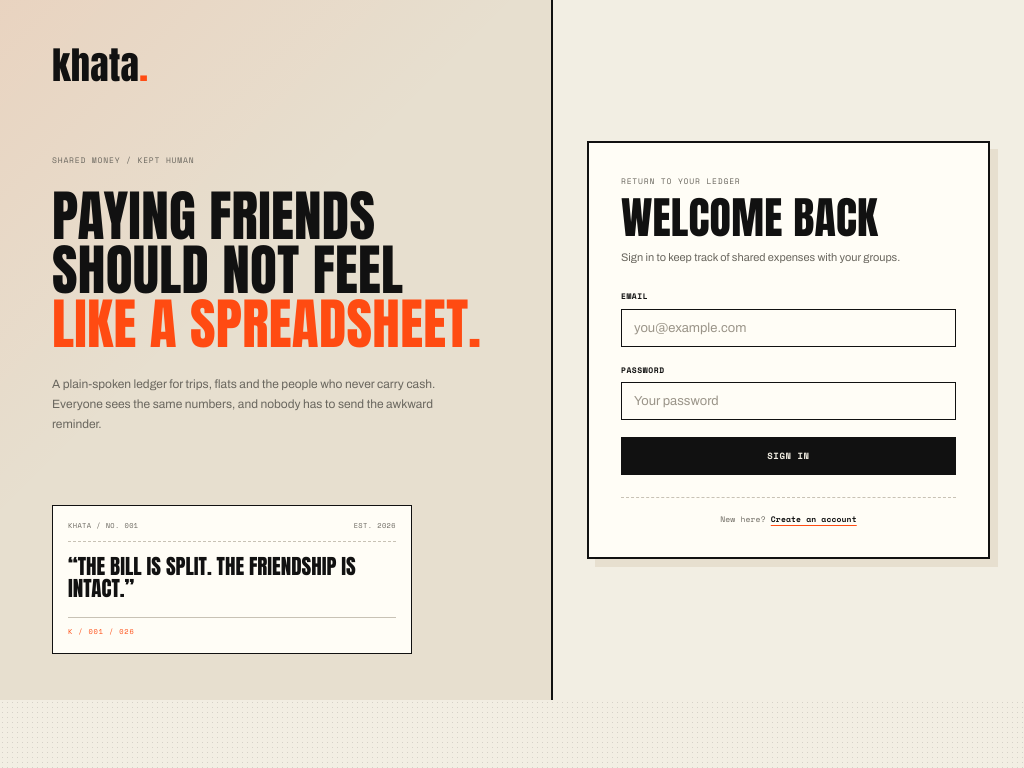
Test case: Login page › shows the API error when login fails
Type "test@example.com" into the field labelled "Email" at (788,328), box left=621, top=309, right=956, bottom=347
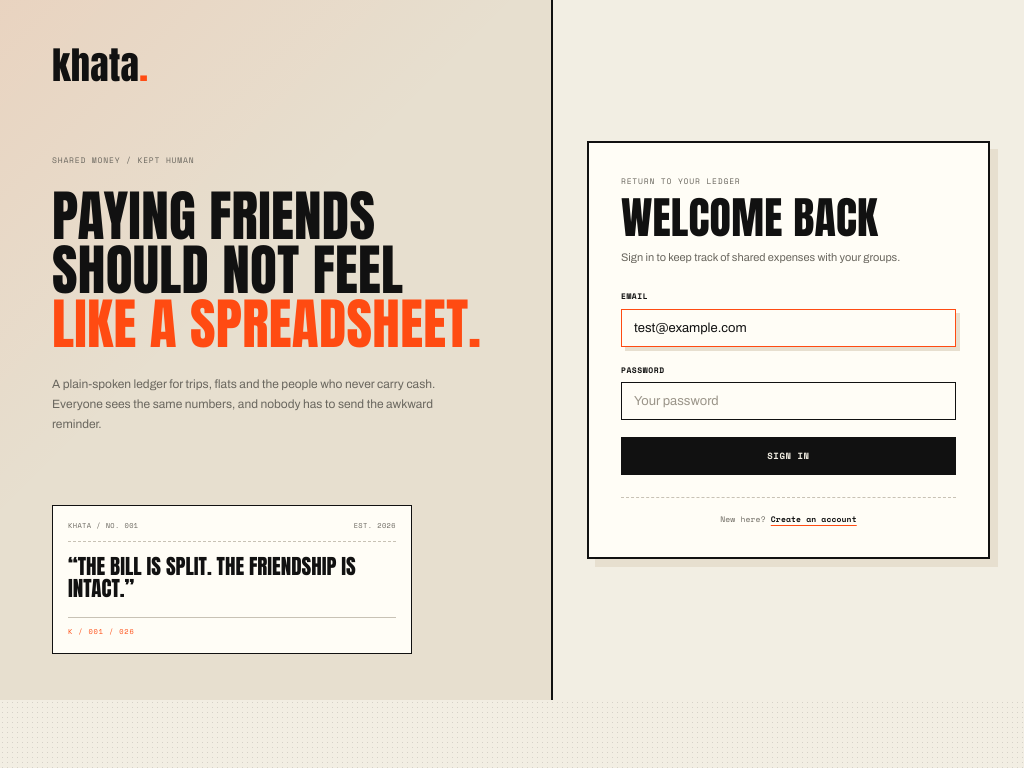
Type "wrong-password" into the password field labelled "Password" at (788,401), box left=621, top=382, right=956, bottom=420
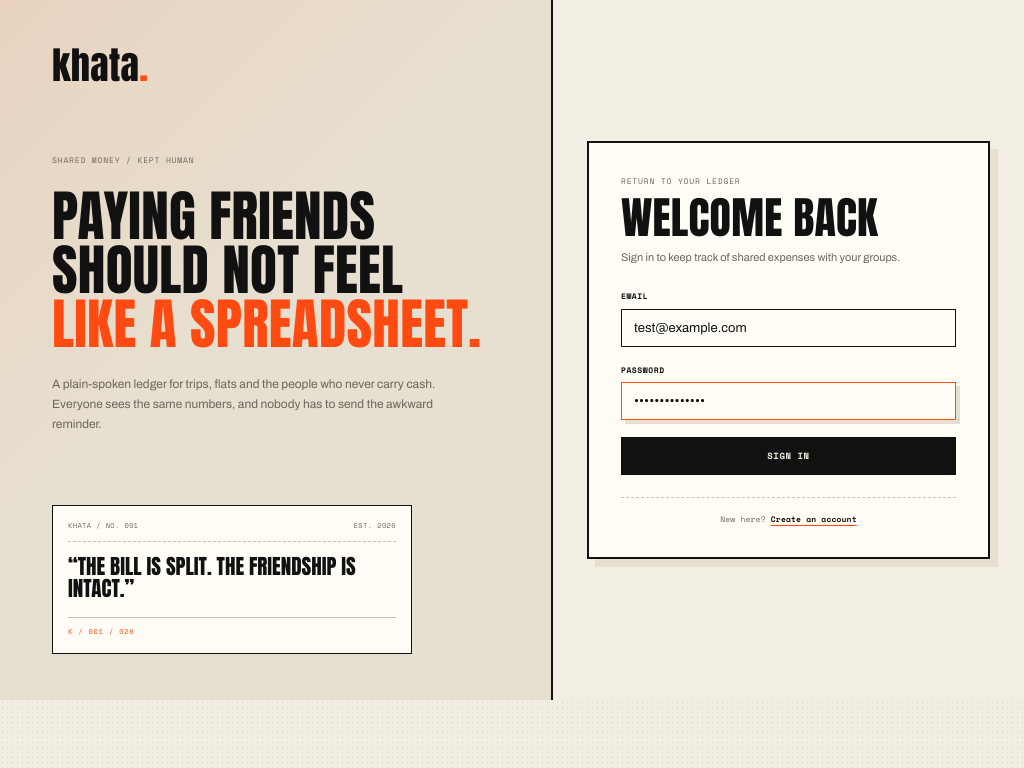
Click the button "Sign in" at (788,456), box left=621, top=437, right=956, bottom=475
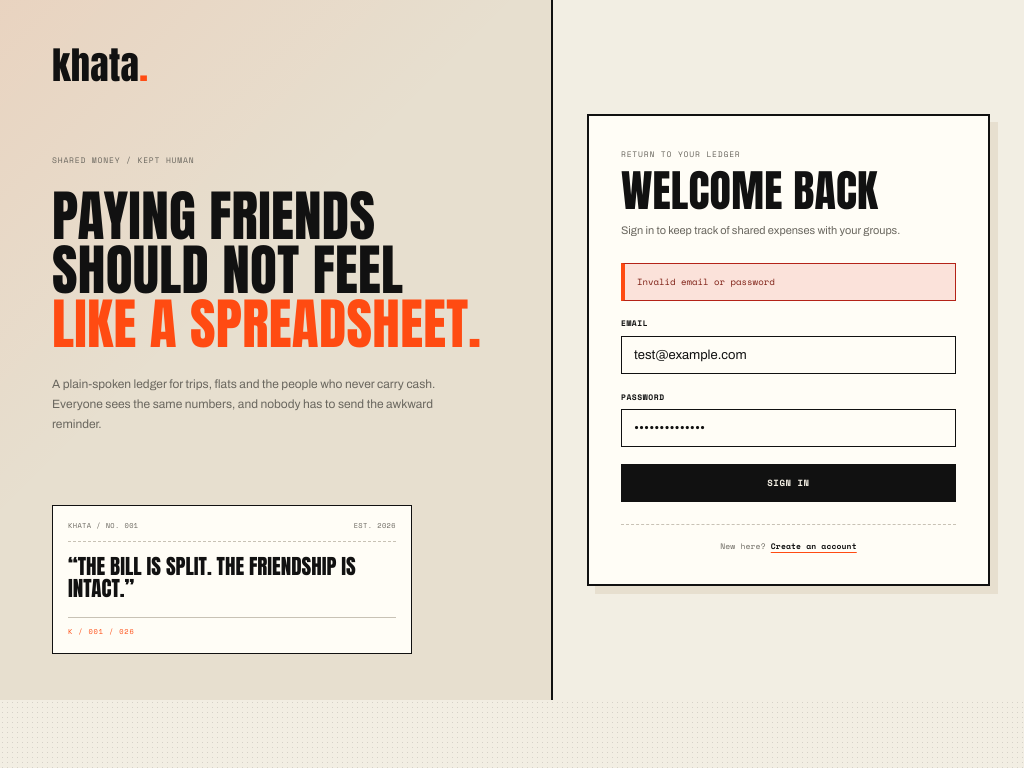
Expected: the text "Invalid email or password" is shown, left=621, top=263, right=956, bottom=301
